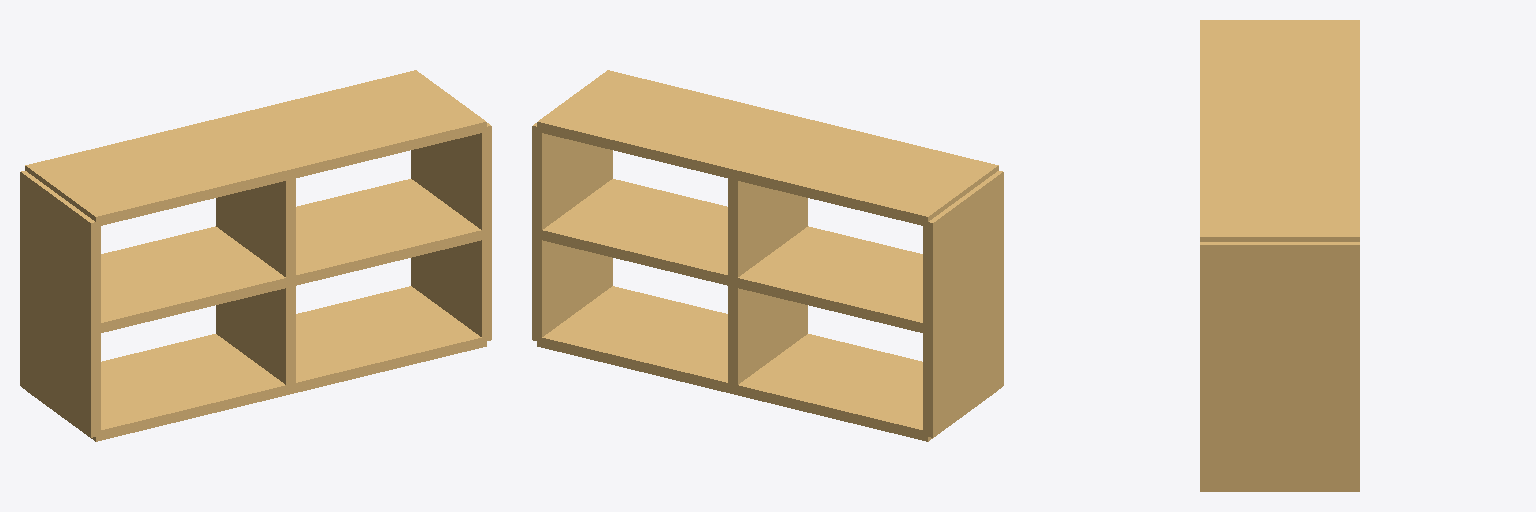
The robot description file, URDF, robot "shelf.urdf":
<?xml version="1.0" ?>
<robot name="shelf.urdf">
  <material name="Caramel">
    <color rgba=".95 .8 .54 1"/>
  </material>
  <!-- <link name="baseLink">
    <contact>
      <lateral_friction value="1.0"/>
    </contact>
    <inertial>
      <origin rpy="0 0 0" xyz="0 0 0"/>
      <mass value=".0"/>
      <inertia ixx="1" ixy="0" ixz="0" iyy="1" iyz="0" izz="1"/>
    </inertial>
    <visual>
      <origin rpy="1.57 0 1.57" xyz="0 0 0"/>
      <geometry>
				<mesh filename="shelf.obj" scale="4 3 2"/>
      </geometry>
      <material name="Caramel"/>
    </visual>
    <collision>
      <origin rpy="1.57 0 1.57" xyz="0 0 0"/>
      <geometry>
			  <mesh filename="shelf.obj" scale="4 3 2"/>
      </geometry>
    </collision>
  </link> -->
  <link name="baseLink">
    <contact>
      <lateral_friction value="1.0"/>
    </contact>
    <inertial>
      <origin rpy="0 0 0" xyz="0 0 0"/>
      <mass value=".0"/>
      <inertia ixx="1" ixy="0" ixz="0" iyy="1" iyz="0" izz="1"/>
    </inertial>
    <visual>
      <origin rpy="0 0 0" xyz=".4 0 0"/>
      <geometry>
				<box size=".02 .25 .42"/>
      </geometry>
      <material name="Caramel"/>
    </visual>
    <collision>
      <origin rpy="0 0 0" xyz=".4 0 0"/>
      <geometry>
				<box size=".02 .25 .42"/>
      </geometry>
    </collision>

    <visual>
      <origin rpy="0 0 0" xyz="0 0 0"/>
      <geometry>
				<box size=".02 .25 .42"/>
      </geometry>
      <material name="Caramel"/>
    </visual>
    <collision>
      <origin rpy="0 0 0" xyz="0 0 0"/>
      <geometry>
				<box size=".02 .25 .42"/>
      </geometry>
    </collision>

    <visual>
      <origin rpy="0 0 0" xyz="-.4 0 0"/>
      <geometry>
				<box size=".02 .25 .42"/>
      </geometry>
      <material name="Caramel"/>
    </visual>
    <collision>
      <origin rpy="0 0 0" xyz="-.4 0 0"/>
      <geometry>
				<box size=".02 .25 .42"/>
      </geometry>
    </collision>

    <visual>
      <origin rpy="0 0 0" xyz="0 0 .21"/>
      <geometry>
				<box size=".8 .25 .02"/>
      </geometry>
      <material name="Caramel"/>
    </visual>
    <collision>
      <origin rpy="0 0 0" xyz="0 0 .21"/>
      <geometry>
				<box size=".8 .25 .02"/>
      </geometry>
    </collision>

    <visual>
      <origin rpy="0 0 0" xyz="0 0 0"/>
      <geometry>
				<box size=".8 .25 .02"/>
      </geometry>
      <material name="Caramel"/>
    </visual>
    <collision>
      <origin rpy="0 0 0" xyz="0 0 0"/>
      <geometry>
				<box size=".8 .25 .02"/>
      </geometry>
    </collision>

    <visual>
      <origin rpy="0 0 0" xyz="0 0 -.21"/>
      <geometry>
				<box size=".8 .25 .02"/>
      </geometry>
      <material name="Caramel"/>
    </visual>
    <collision>
      <origin rpy="0 0 0" xyz="0 0 -.21"/>
      <geometry>
				<box size=".8 .25 .02"/>
      </geometry>
    </collision>
  </link>
</robot>

--- Render facts (derived) ---
3 views of the same robot in one strip: view 1: azimuth 30°, elevation 25°; view 2: azimuth 150°, elevation 25°; view 3: azimuth 270°, elevation 25° (orthographic).
Model shelf.urdf with 1 links and 0 joints (none), rooted at baseLink, posed every joint at zero.
Links seen in each view (by area): view 1: baseLink; view 2: baseLink; view 3: baseLink.
Boxes of the visible links, x1,y1,x2,y2 form: baseLink: (20, 70, 491, 441); baseLink: (532, 70, 1003, 441); baseLink: (1200, 20, 1359, 491).
Size in the robot's own frame: 0.82 by 0.25 by 0.44 metres.
Geometry: primitives only (box / cylinder / sphere), no mesh files.